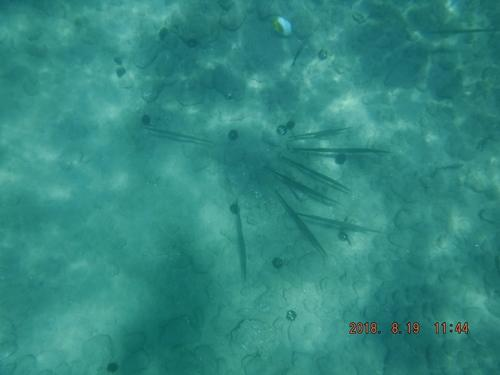Fistularia commersonii: (277, 174, 369, 270), (270, 116, 413, 177), (111, 104, 236, 157), (290, 147, 391, 197)
